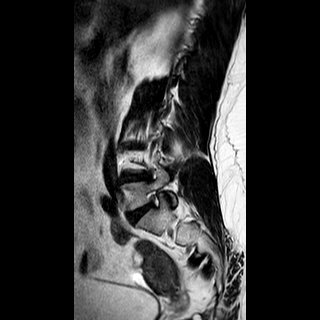RFS0: (142, 184, 167, 213)
